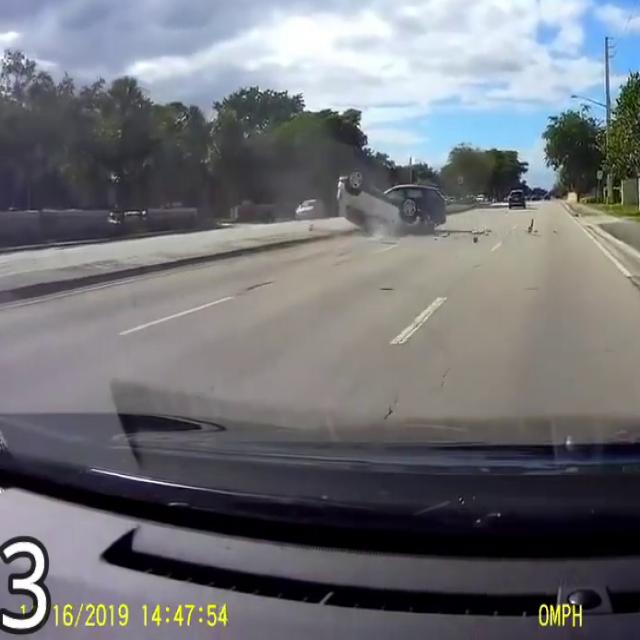accident: (318, 178, 436, 241)
